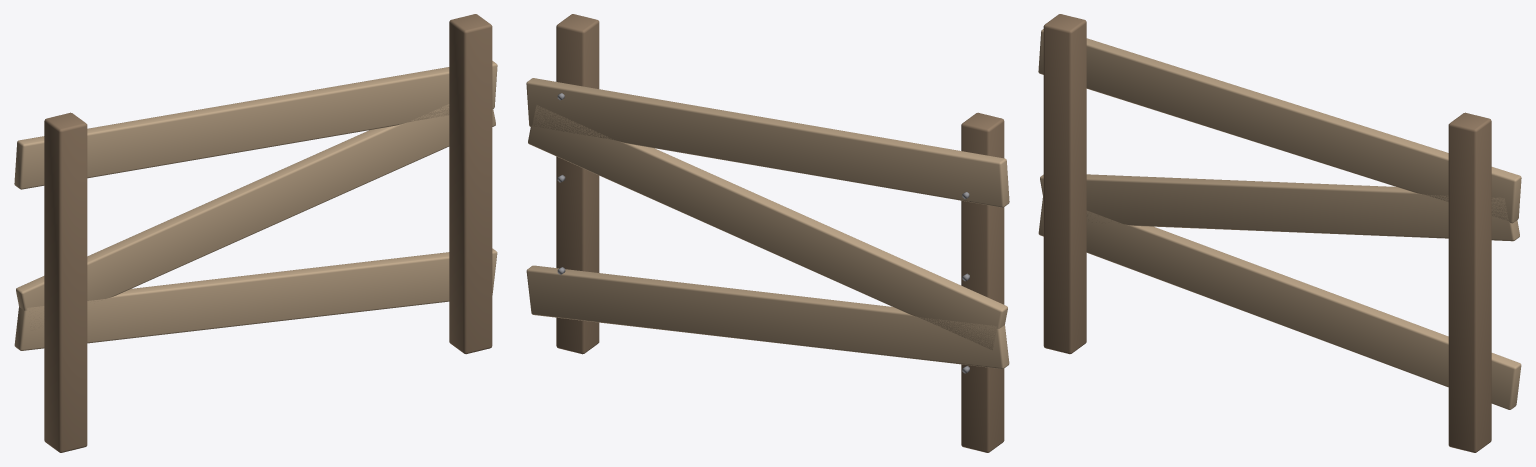
Rendered from Barricada.fbx.
3 renders of one model, left to right at view 1: azimuth 30°, elevation 25°; view 2: azimuth 150°, elevation 25°; view 3: azimuth 330°, elevation 25°, orthographic.
Parts seen in each view (by area): view 1: Barricada; view 2: Barricada; view 3: Barricada.
Boxes of the visible parts, bbox=[...] form: Barricada: bbox=[14, 14, 497, 452]; Barricada: bbox=[526, 14, 1009, 452]; Barricada: bbox=[1038, 14, 1521, 452].
Size of the model in its own units: 2.01 by 1.3 by 0.19.
